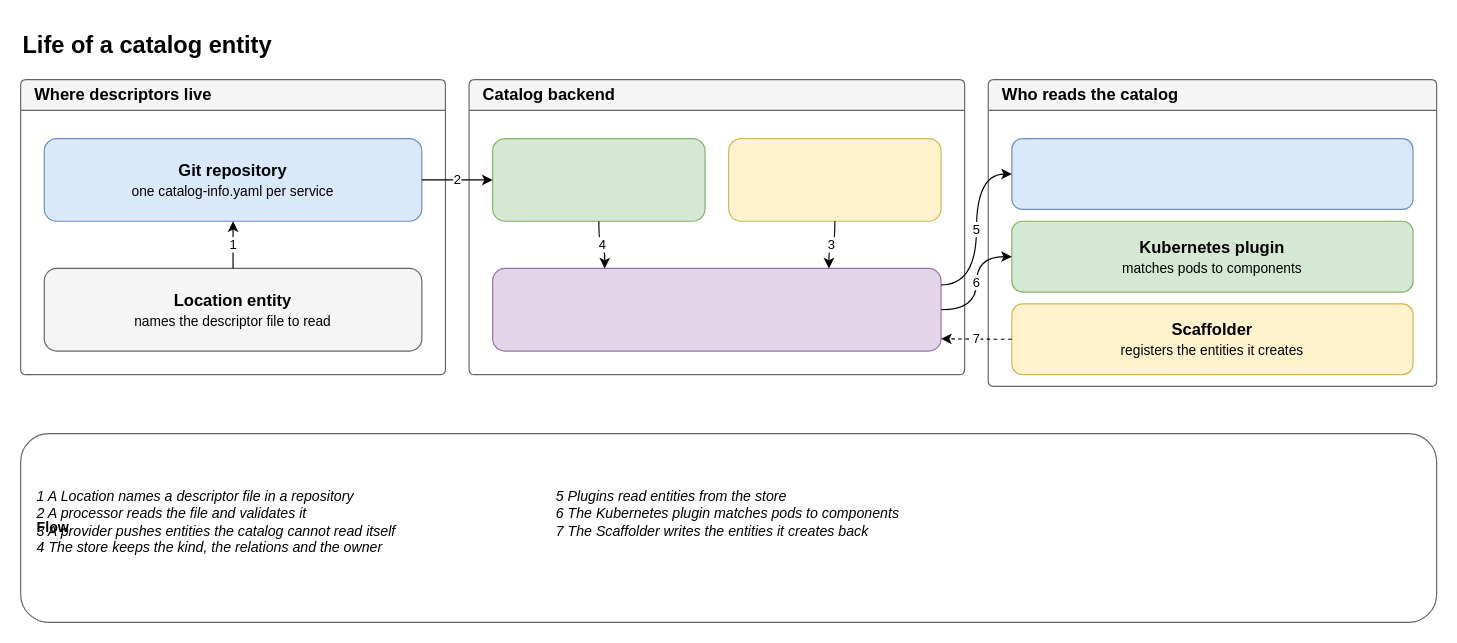
Image size: 1457x643. Some labels were removed from this diagram. Here are the shapes that lost their labels. From the top down, the centre of each, then its label:
(x=598, y=179): Processor reads and validates a descriptor
(x=834, y=179): Provider pushes entities from outside
(x=1212, y=173): Catalog UI search and browse
(x=716, y=309): Entity store kinds, relations, owner, lifecycle
